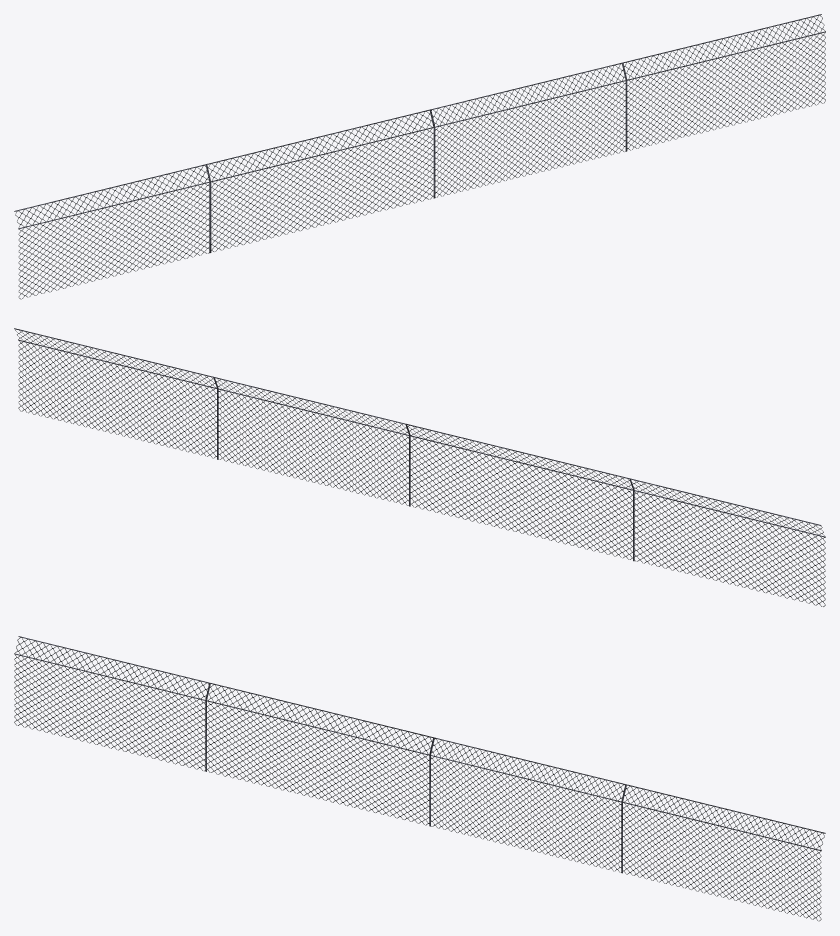
The model's file is M10_Z1_FootBridge02C.glb.
The picture shows the model from 3 angles, top to bottom: view 1: azimuth 30°, elevation 25°; view 2: azimuth 150°, elevation 25°; view 3: azimuth 330°, elevation 25°; orthographic projection.
Visible parts, largest first — view 1: M10_Z1_FOOTBRIDGE02C; view 2: M10_Z1_FOOTBRIDGE02C; view 3: M10_Z1_FOOTBRIDGE02C.
Boxes of the visible parts, box(x1,y1,x2,y2) form: M10_Z1_FOOTBRIDGE02C: box(14, 14, 825, 299); M10_Z1_FOOTBRIDGE02C: box(14, 328, 825, 606); M10_Z1_FOOTBRIDGE02C: box(14, 636, 825, 921).
Bounding box in the file's own units: 14.6 × 1.48 × 0.141.
2 materials, 2 textured.
